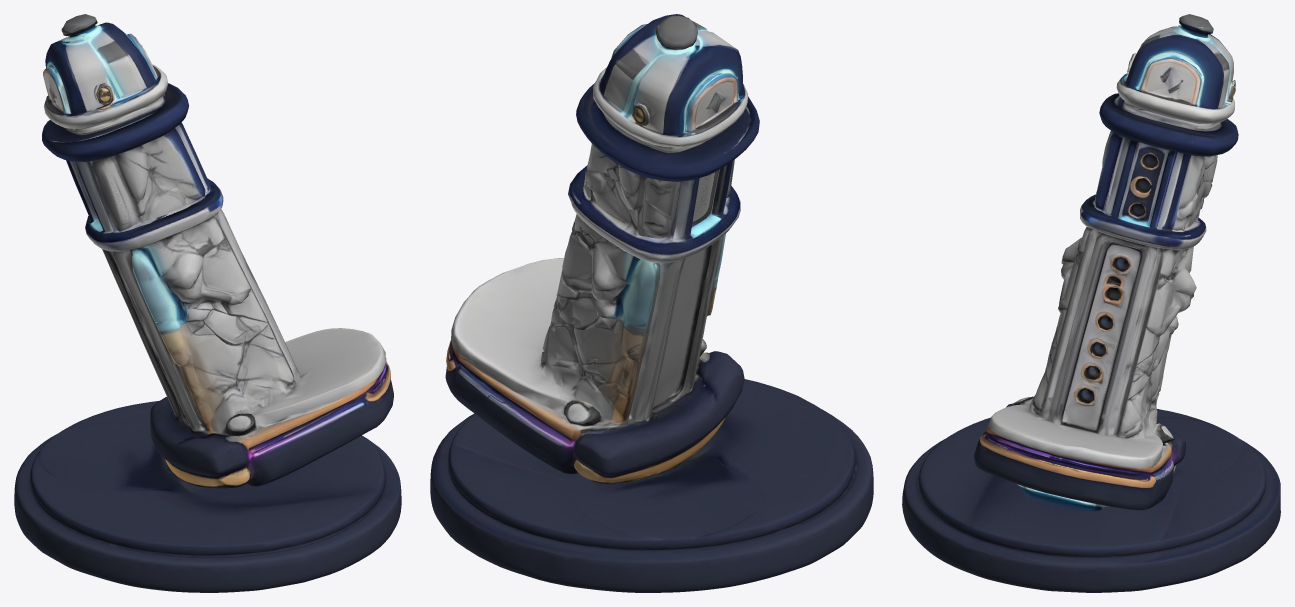
The model's file is odd_path.glb.
The picture shows the model from 3 angles, left to right: view 1: azimuth 30°, elevation 25°; view 2: azimuth 150°, elevation 25°; view 3: azimuth 270°, elevation 25°; orthographic projection. The views are drawn at different scales.
Parts seen in each view (by area): view 1: tripo_node_93795ccf-182f-4ce4-8ba4-ada65f862a78; view 2: tripo_node_93795ccf-182f-4ce4-8ba4-ada65f862a78; view 3: tripo_node_93795ccf-182f-4ce4-8ba4-ada65f862a78.
Boxes of the visible parts, x1,y1,x2,y2 form: tripo_node_93795ccf-182f-4ce4-8ba4-ada65f862a78: [14, 14, 401, 592]; tripo_node_93795ccf-182f-4ce4-8ba4-ada65f862a78: [430, 14, 873, 592]; tripo_node_93795ccf-182f-4ce4-8ba4-ada65f862a78: [902, 14, 1280, 592].
Size of the model in its own units: 0.7216 by 0.9792 by 0.7222.
Materials: 1 (1 with a texture image).
